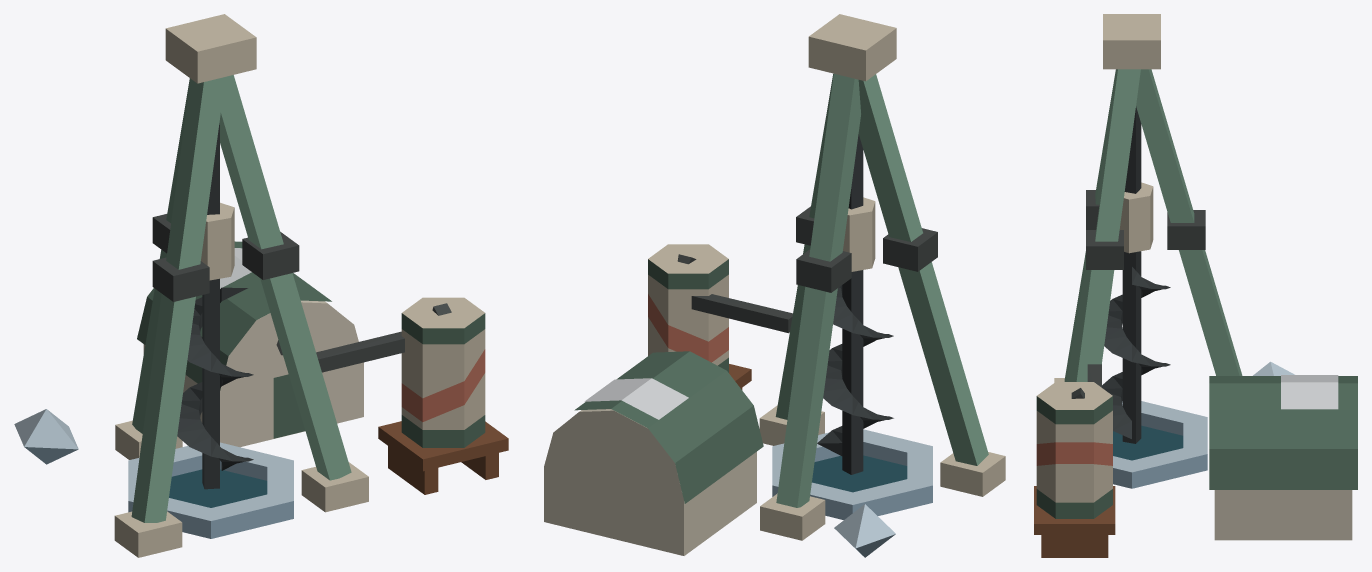
The model's file is ice_drill.glb.
3 views of the same model, side by side, from view 1: azimuth 30°, elevation 25°; view 2: azimuth 150°, elevation 25°; view 3: azimuth 270°, elevation 25° (orthographic). The views are drawn at different scales.
Parts seen in each view (by area): view 1: ice_drill; view 2: ice_drill; view 3: ice_drill.
Boxes of the visible parts, x1,y1,x2,y2 form: ice_drill: [14, 14, 508, 557]; ice_drill: [544, 14, 1005, 557]; ice_drill: [1034, 14, 1357, 557].
Bounding box in the file's own units: 0.3777 × 0.467 × 0.3225.
